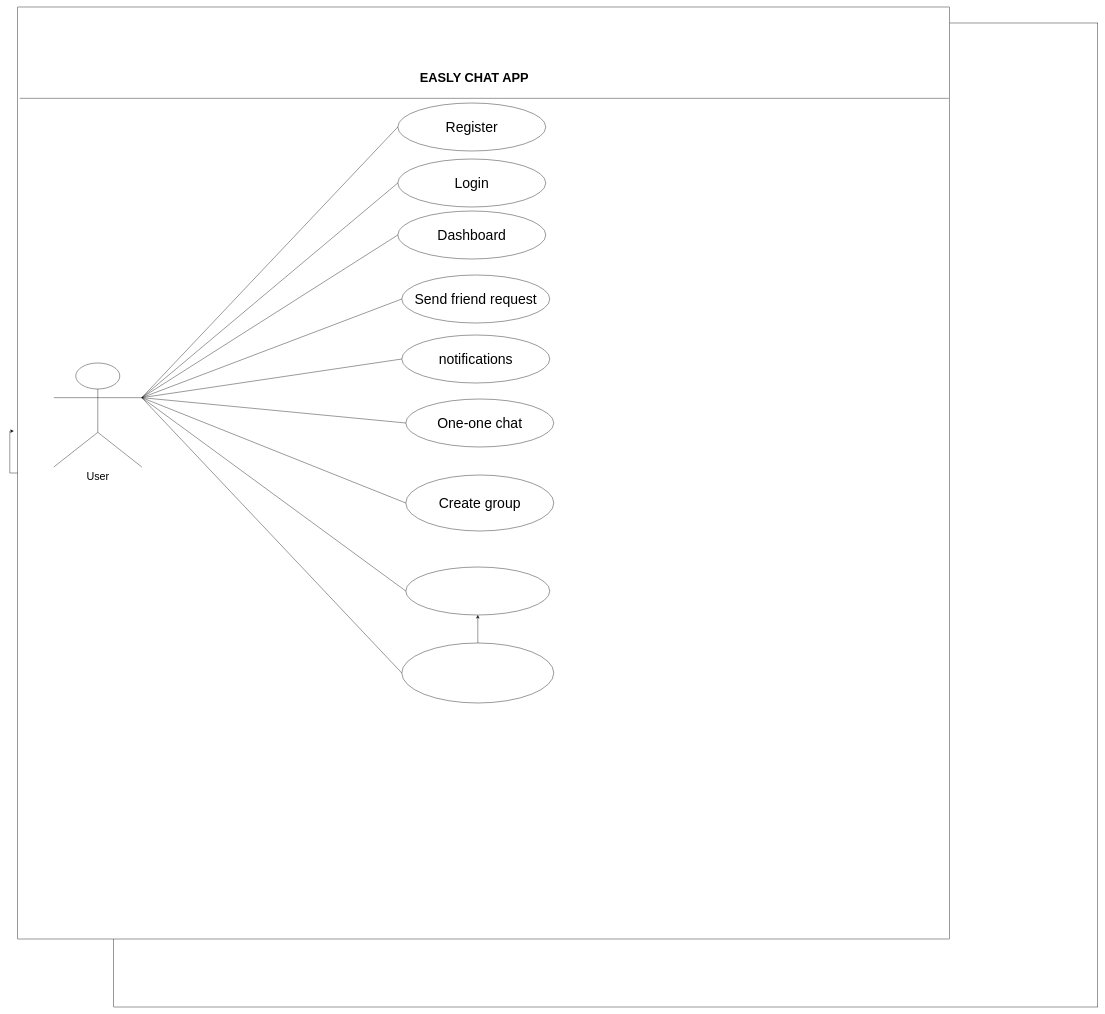
Image size: 1105x1014. Some labels were removed from this diagram. The shapes that lost their labels are listed below. From the top down, each one's centre as x and y in pixels, then its label:
At point (477, 591): "Group Chat".
At point (477, 673): "Manage group".
